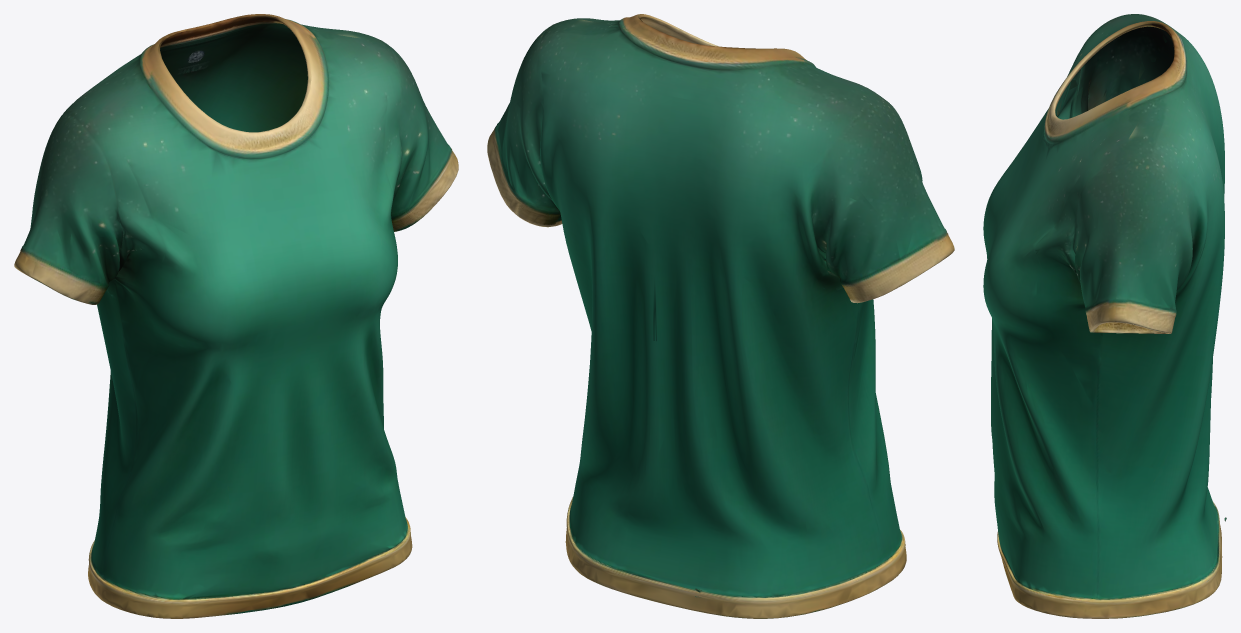
The model's file is DFS -01.glb.
3 renders of one model, left to right at view 1: azimuth 30°, elevation 25°; view 2: azimuth 150°, elevation 25°; view 3: azimuth 270°, elevation 25°, orthographic. The views are drawn at different scales.
Parts seen in each view (by area): view 1: Mesh_0; view 2: Mesh_0; view 3: Mesh_0.
Boxes of the visible parts, x1,y1,x2,y2 form: Mesh_0: (14,14,458,618); Mesh_0: (487,14,954,618); Mesh_0: (983,14,1226,618).
Bounding box in the file's own units: 0.9358 × 1.06 × 0.4581.
1 material, 1 textured.
